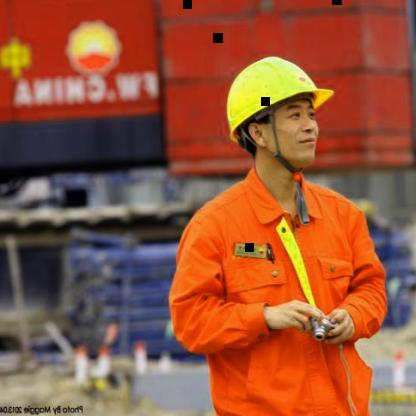helmet: (217, 46, 341, 150)
